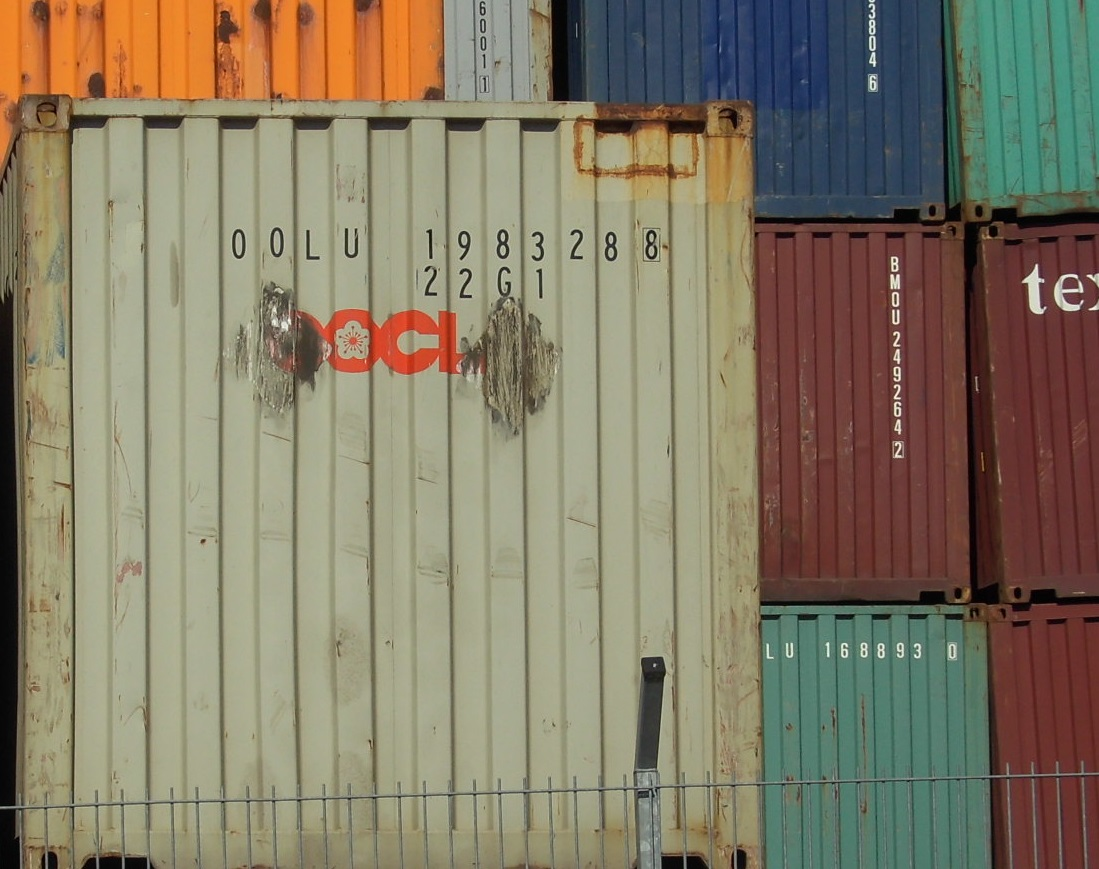container_no_door: (14, 91, 760, 869), (571, 1, 945, 220), (765, 223, 973, 602), (762, 606, 987, 869), (987, 221, 1099, 600), (951, 1, 1099, 222), (990, 602, 1099, 869)
